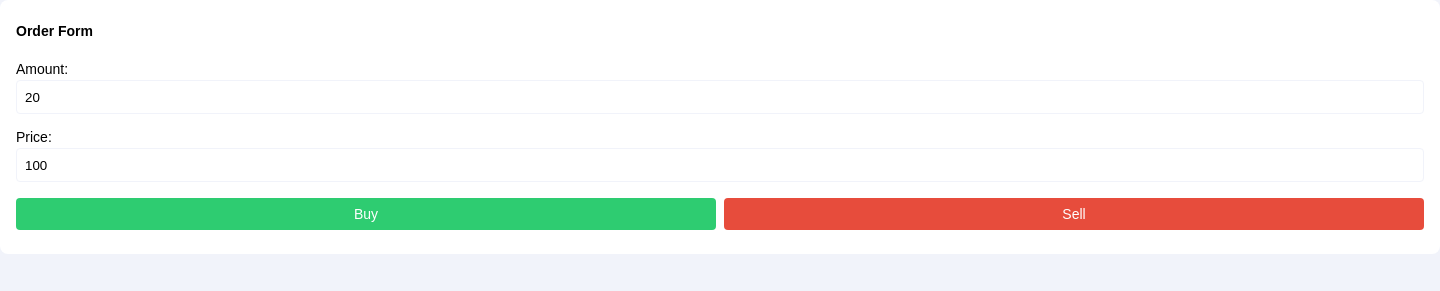
Scenario: OrderForm.vue › should show error message when api request fails
Click the button with id "buy-button" at (366, 214), box [16,198,716,230]
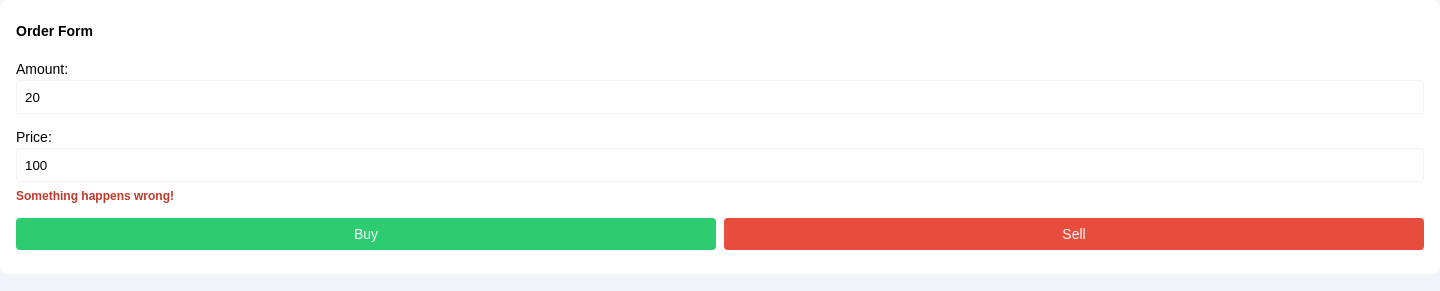
Expected: the text "Something happens wrong!" is shown, [16,189,174,203]
